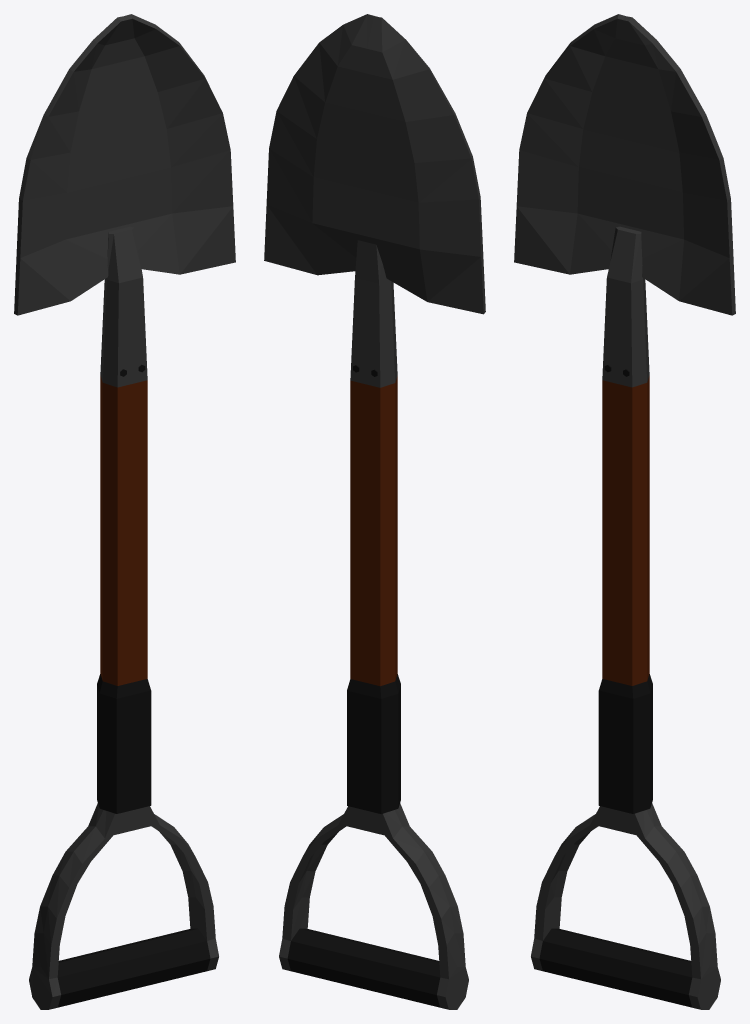
File: Shovel.obj
3 views of the same model, side by side, from view 1: azimuth 30°, elevation 25°; view 2: azimuth 150°, elevation 25°; view 3: azimuth 330°, elevation 25° (orthographic).
Visible parts, largest first — view 1: Shovel_Circle.004; view 2: Shovel_Circle.004; view 3: Shovel_Circle.004.
Boxes of the visible parts, left/top/right/bottom form: Shovel_Circle.004: left=14, top=14, right=235, bottom=1009; Shovel_Circle.004: left=264, top=14, right=485, bottom=1009; Shovel_Circle.004: left=514, top=14, right=735, bottom=1009.
Size of the model in its own units: 0.2157 by 0.9137 by 0.0403.
